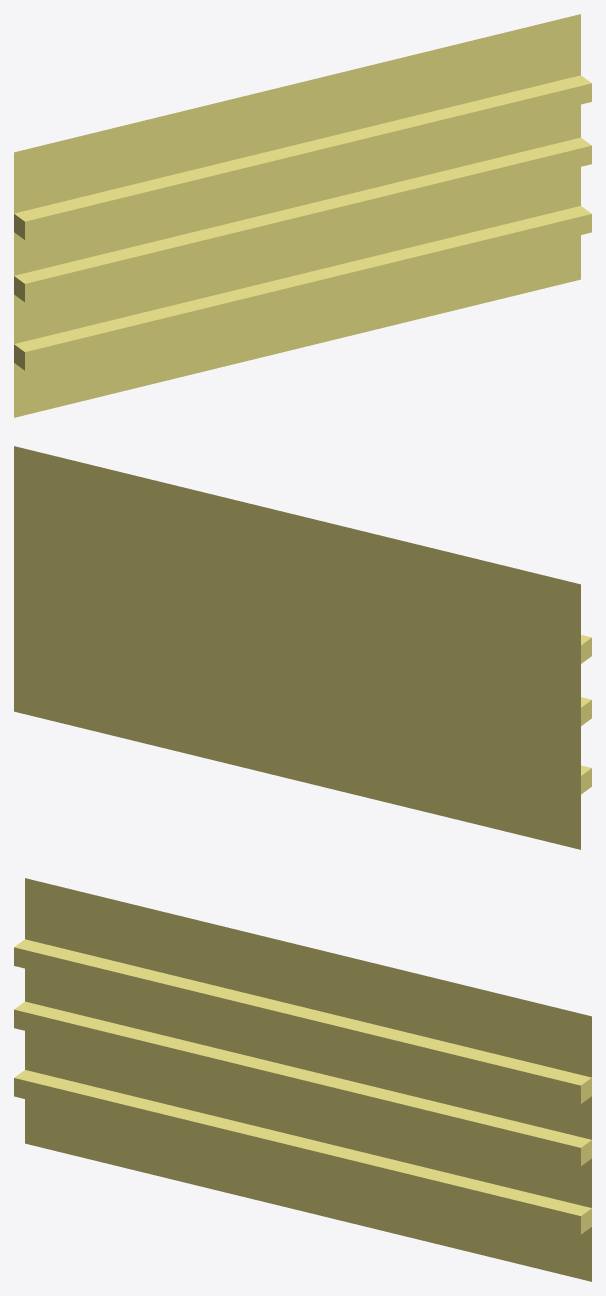
The model's file is Parede.fbx.
3 views of the same model, one above another, from view 1: azimuth 30°, elevation 25°; view 2: azimuth 150°, elevation 25°; view 3: azimuth 330°, elevation 25° (orthographic).
Visible parts, largest first — view 1: Parede; view 2: Parede; view 3: Parede.
Boxes of the visible parts, x1,y1,x2,y2 form: Parede: (14, 14, 591, 417); Parede: (14, 446, 591, 849); Parede: (14, 878, 591, 1281).
Bounding box in the file's own units: 1645 × 736 × 55.36.
